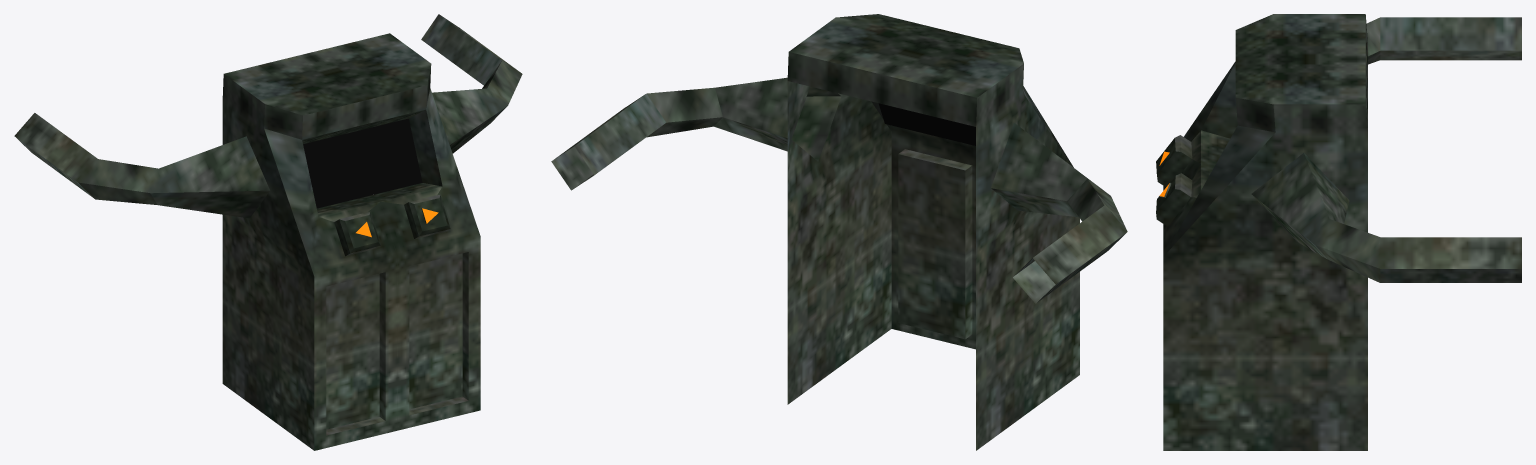
File: PSIMachine.glb
3 views of the same model, side by side, from view 1: azimuth 30°, elevation 25°; view 2: azimuth 150°, elevation 25°; view 3: azimuth 270°, elevation 25° (orthographic). The views are drawn at different scales.
Visible parts, largest first — view 1: Cube; view 2: Cube; view 3: Cube.
Part boxes in pixels (<box>): Cube: <box>14,14,522,450</box>; Cube: <box>551,14,1127,450</box>; Cube: <box>1156,14,1521,450</box>.
Size of the model in its own units: 5.35 by 3.57 by 3.42.
Materials: 3 (1 with a texture image).
